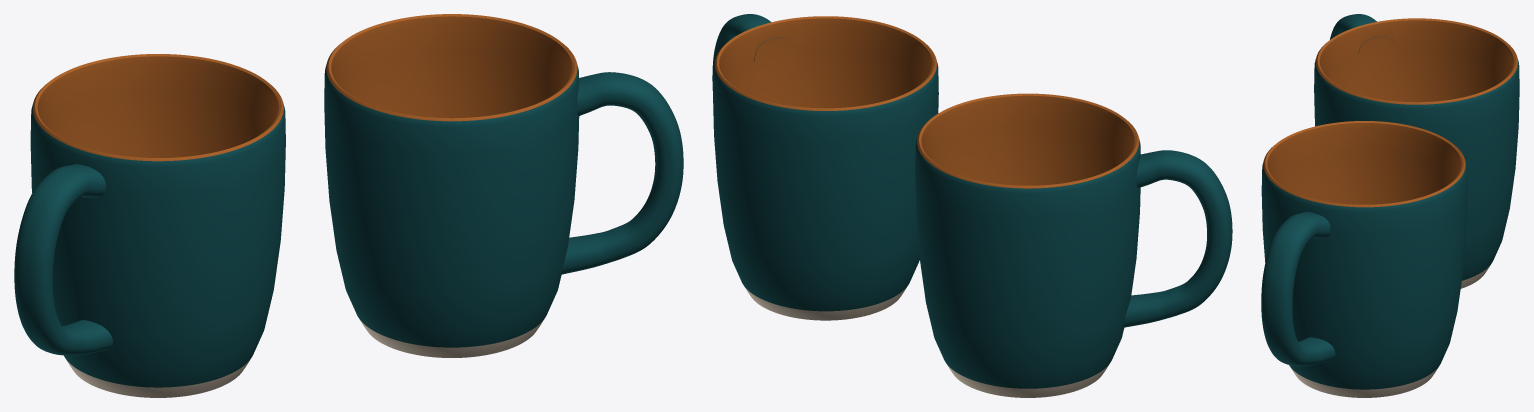
Rendered from mugs.glb.
The picture shows the model from 3 angles, left to right: view 1: azimuth 30°, elevation 25°; view 2: azimuth 150°, elevation 25°; view 3: azimuth 270°, elevation 25°; orthographic projection. The views are drawn at different scales.
Visible parts, largest first — view 1: SHAY Teal Coffee Mugs; view 2: SHAY Teal Coffee Mugs; view 3: SHAY Teal Coffee Mugs.
Part boxes in pixels (x1,y1,x2,y2): SHAY Teal Coffee Mugs: (14,14,683,397); SHAY Teal Coffee Mugs: (712,14,1232,397); SHAY Teal Coffee Mugs: (1261,14,1519,397).
Size of the model in its own units: 0.2436 by 0.0953 by 0.1086.
